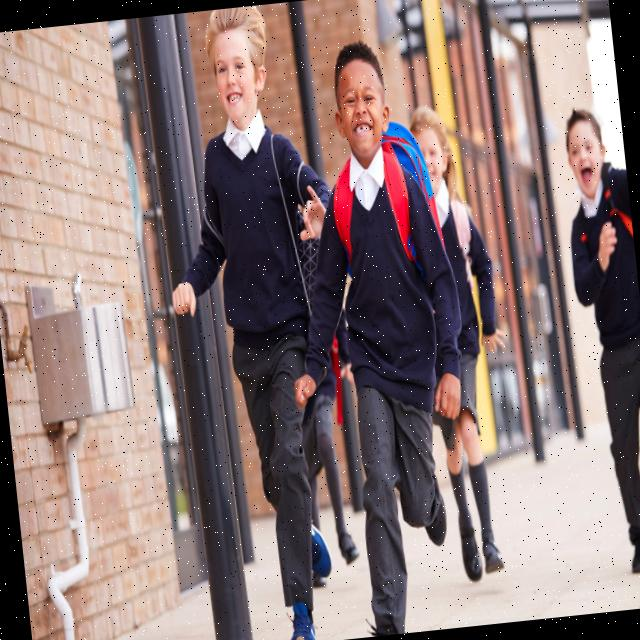Person: (142, 0, 375, 640), (258, 33, 491, 640), (384, 99, 528, 586), (555, 102, 640, 574)
